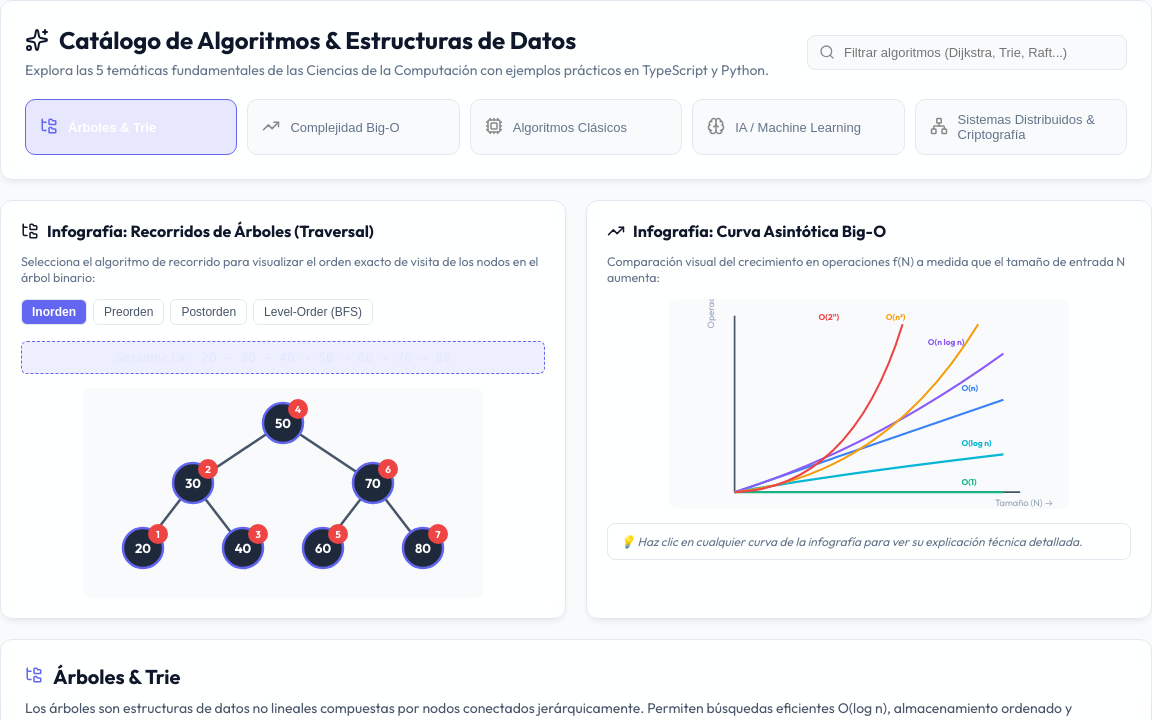
Scenario: AlgorithmCatalog Component › allows switching categories when clicking tabs
Click the button "Complejidad Big-O" at (354, 127), box [247,99,460,155]
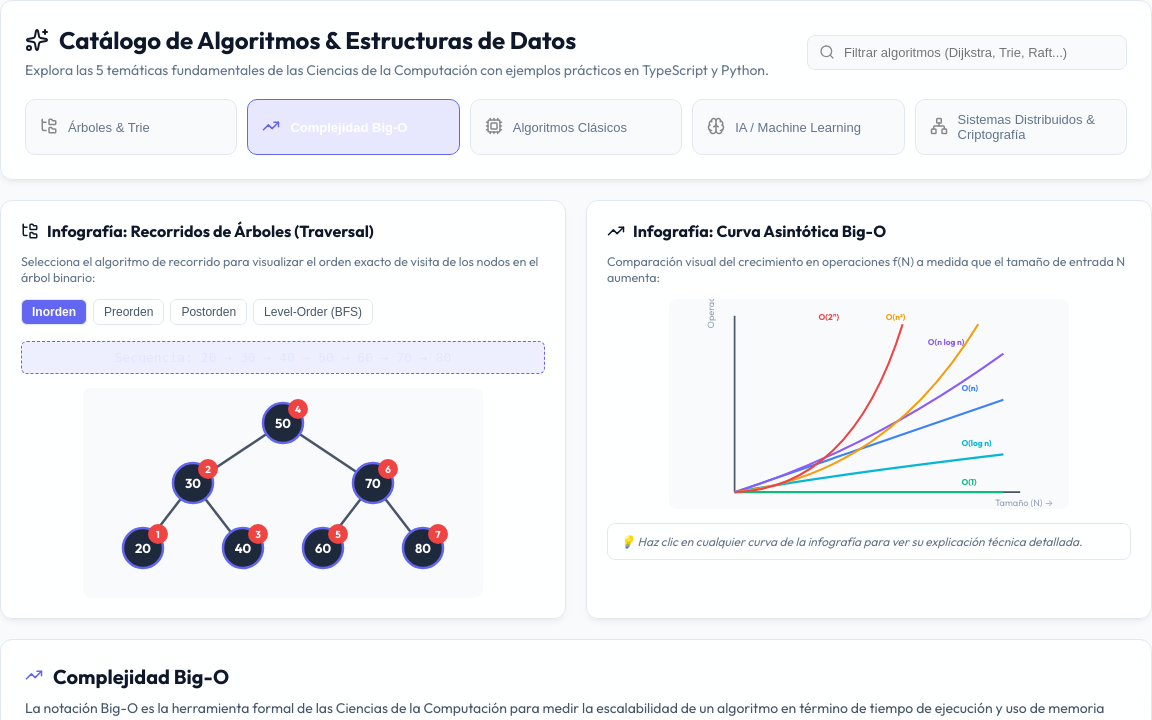
Expected: the heading "Complejidad Big-O" is shown, [53,664,229,689]
